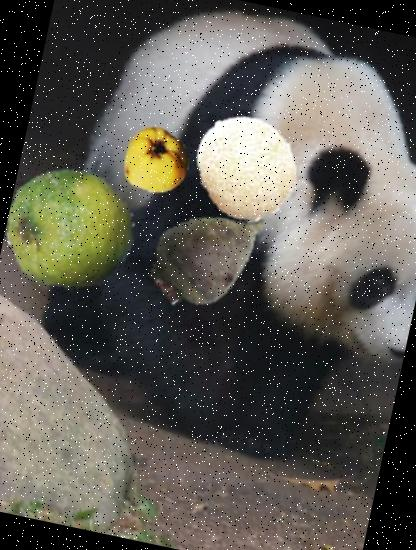Beetroot: (132, 172, 292, 332)
Cantaloupe: (184, 102, 312, 230)
Limes: (0, 154, 146, 306)
Quince: (116, 121, 196, 200)
